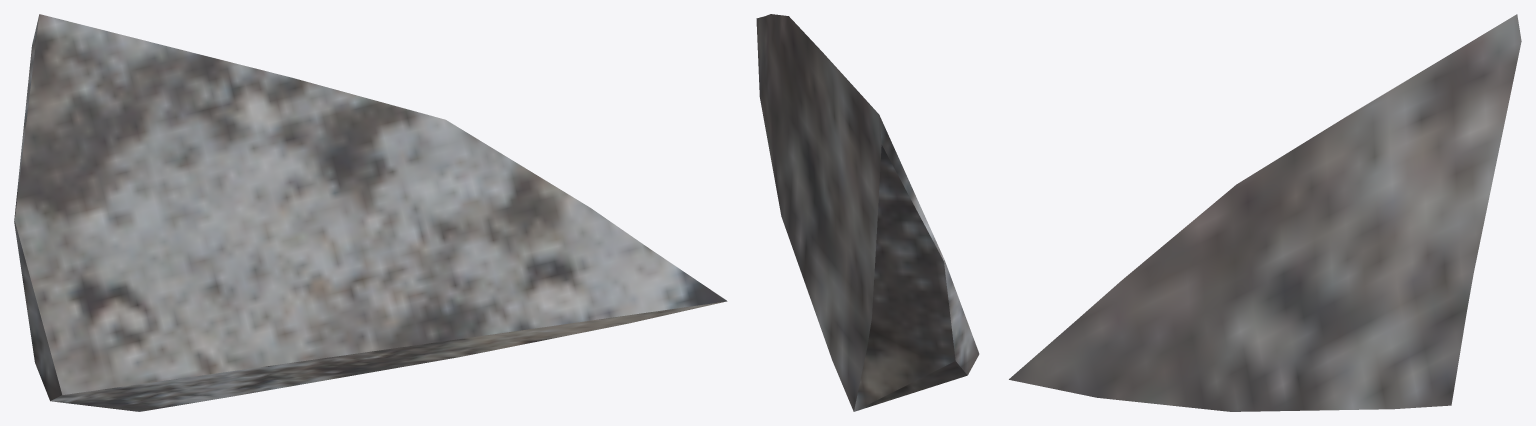
File: Asteroid_Large_001_02_006_03_020.fbx
3 renders of one model, left to right at view 1: azimuth 30°, elevation 25°; view 2: azimuth 150°, elevation 25°; view 3: azimuth 270°, elevation 25°, orthographic. The views are drawn at different scales.
Parts seen in each view (by area): view 1: Asteroid_Large_001_02_006_03_020; view 2: Asteroid_Large_001_02_006_03_020; view 3: Asteroid_Large_001_02_006_03_020.
Boxes of the visible parts, bbox=[...] form: Asteroid_Large_001_02_006_03_020: bbox=[14, 14, 727, 411]; Asteroid_Large_001_02_006_03_020: bbox=[756, 14, 979, 411]; Asteroid_Large_001_02_006_03_020: bbox=[1009, 14, 1521, 411].
Bounding box in the file's own units: 3.78 × 3.01 × 3.86.
